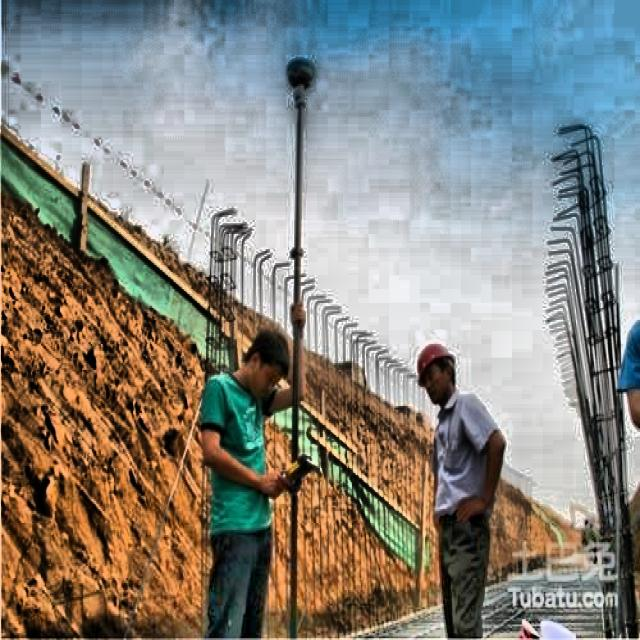helmet: (410, 320, 462, 411)
